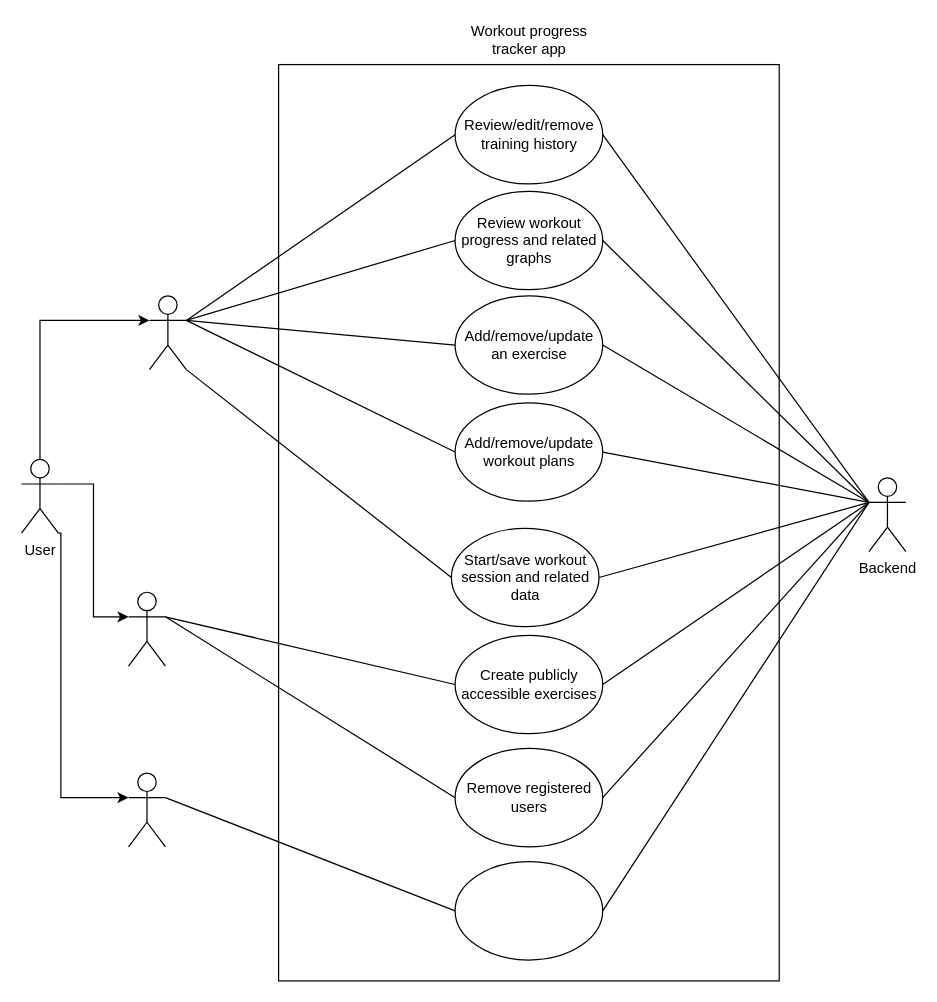
Some shapes in this 937 by 1002 pixel diagram are drawn without their labels. Each missing label, with the centre of its shape:
"Admin User" belongs at (x=146, y=628).
"Authenticate" belongs at (x=528, y=910).
"Authenticated User" belongs at (x=167, y=332).
"Non-authenticated User" belongs at (x=146, y=809).
